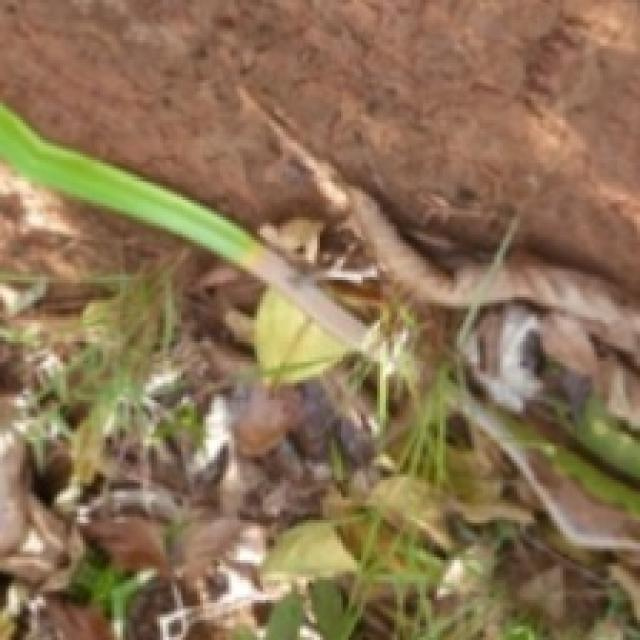red-tailed green ratsnake: (0, 104, 376, 357), (340, 184, 640, 370), (460, 390, 640, 553)
